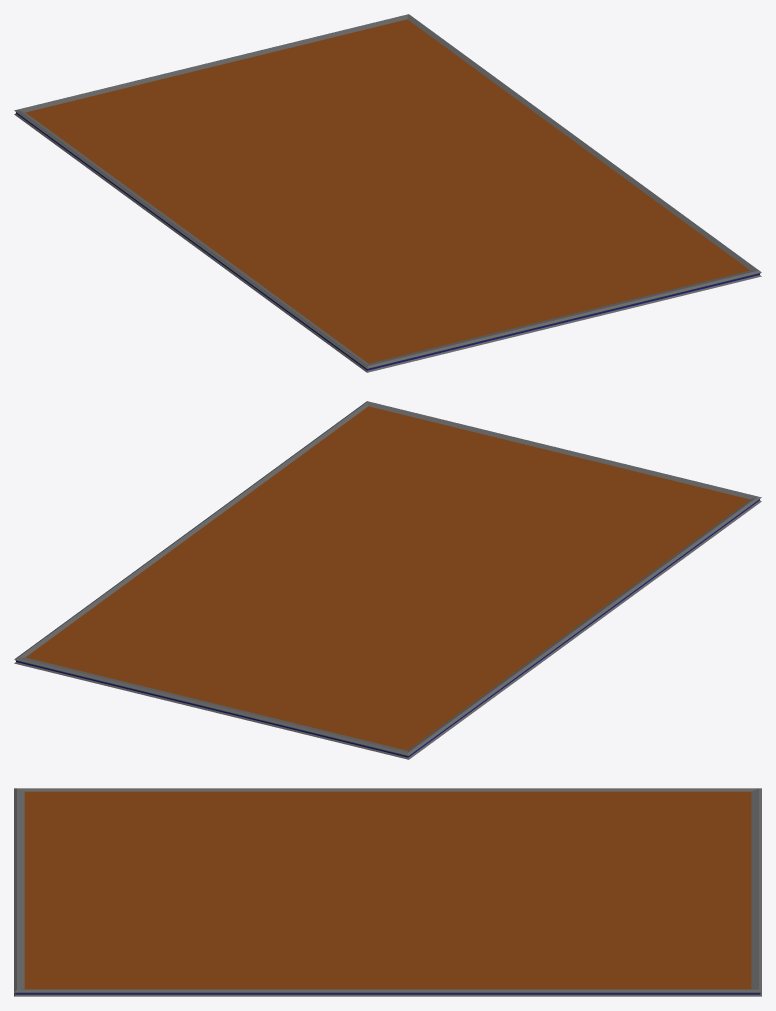
Rendered from BuildZone.obj.
3 renders of one model, top to bottom at view 1: azimuth 30°, elevation 25°; view 2: azimuth 150°, elevation 25°; view 3: azimuth 270°, elevation 25°, orthographic. The views are drawn at different scales.
Parts seen in each view (by area): view 1: BuildZone1_Cube.001; view 2: BuildZone1_Cube.001; view 3: BuildZone1_Cube.001.
Boxes of the visible parts, bbox=[...] form: BuildZone1_Cube.001: bbox=[14, 14, 761, 372]; BuildZone1_Cube.001: bbox=[14, 401, 761, 759]; BuildZone1_Cube.001: bbox=[14, 788, 761, 996].
Bounding box in the file's own units: 31 × 0.4 × 48.
2 materials, 2 textured.
